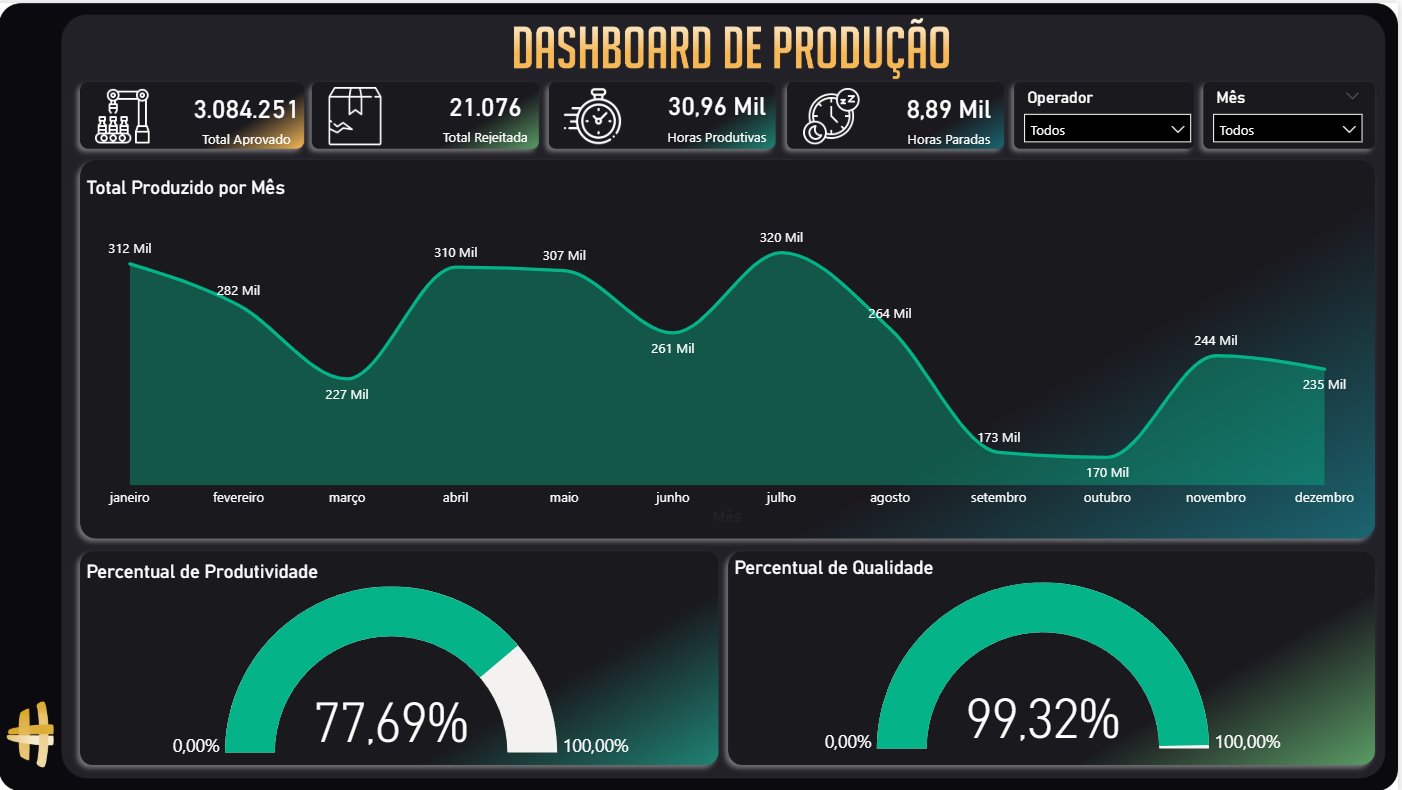

What the dashboard file says about the page in this screenshot:
{"tool":"powerbi","page":{"name":"Página 1","canvas":[1280,720],"ordinal":0},"visuals":[{"type":"card","fields":{"Values":["BaseProdução.Total Aprovado"]},"box":[178.2,72.7,110,61.8],"z":0},{"type":"card","fields":{"Values":["BaseProdução.Total Rejeitada"]},"box":[403,71,95,62],"z":1000},{"type":"card","fields":{"Values":["BaseProdução.Horas Produtivas"]},"box":[606,70,109,63],"z":2000},{"type":"card","fields":{"Values":["BaseProdução.Horas Paradas"]},"box":[823,73,98,62],"z":3000},{"type":"areaChart","fields":{"Y":["BaseProdução.Total Produzido"],"Category":["BaseProdução.Data Inicio.Variation.Hierarquia de datas.Mês"]},"box":[83,157,1175,323],"z":4000},{"type":"gauge","fields":{"Y":["BaseProdução.%Produtividade"]},"box":[83,506,581,185],"z":5000},{"type":"gauge","fields":{"Y":["BaseProdução.%Qualidade"]},"box":[672,503,588,185],"z":6000},{"type":"slicer","fields":{"Values":["BaseProdução.Operador"]},"box":[930,73,172,60],"z":7000},{"type":"slicer","fields":{"Values":["BaseProdução.Data Inicio.Variation.Hierarquia de datas.Mês"]},"box":[1102,73,156,59],"z":8000},{"type":"image","box":[726.4,76.4,76.4,52.7],"z":8001},{"type":"image","box":[512.7,76.4,70,52.7],"z":8002},{"type":"image","box":[82.7,76.4,74.5,52.7],"z":8003},{"type":"image","box":[302.7,76.4,61.8,52.7],"z":8004}]}

Visuals, with their boxes in screenshot pixels (x1, y1, x2, y2), scaled from the page's 1280x720 canvas onto the 1402x790 screenshot:
card - BaseProdução.Total Aprovado: 195 80 316 148
card - BaseProdução.Total Rejeitada: 441 78 545 146
card - BaseProdução.Horas Produtivas: 664 77 783 146
card - BaseProdução.Horas Paradas: 901 80 1009 148
areaChart - BaseProdução.Total Produzido x BaseProdução.Data Inicio.Variation.Hierarquia de datas.Mês: 91 172 1378 527
gauge - BaseProdução.%Produtividade: 91 555 727 758
gauge - BaseProdução.%Qualidade: 736 552 1380 755
slicer - BaseProdução.Operador: 1019 80 1207 146
slicer - BaseProdução.Data Inicio.Variation.Hierarquia de datas.Mês: 1207 80 1378 145
image: 796 84 879 142
image: 562 84 638 142
image: 91 84 172 142
image: 332 84 399 142
